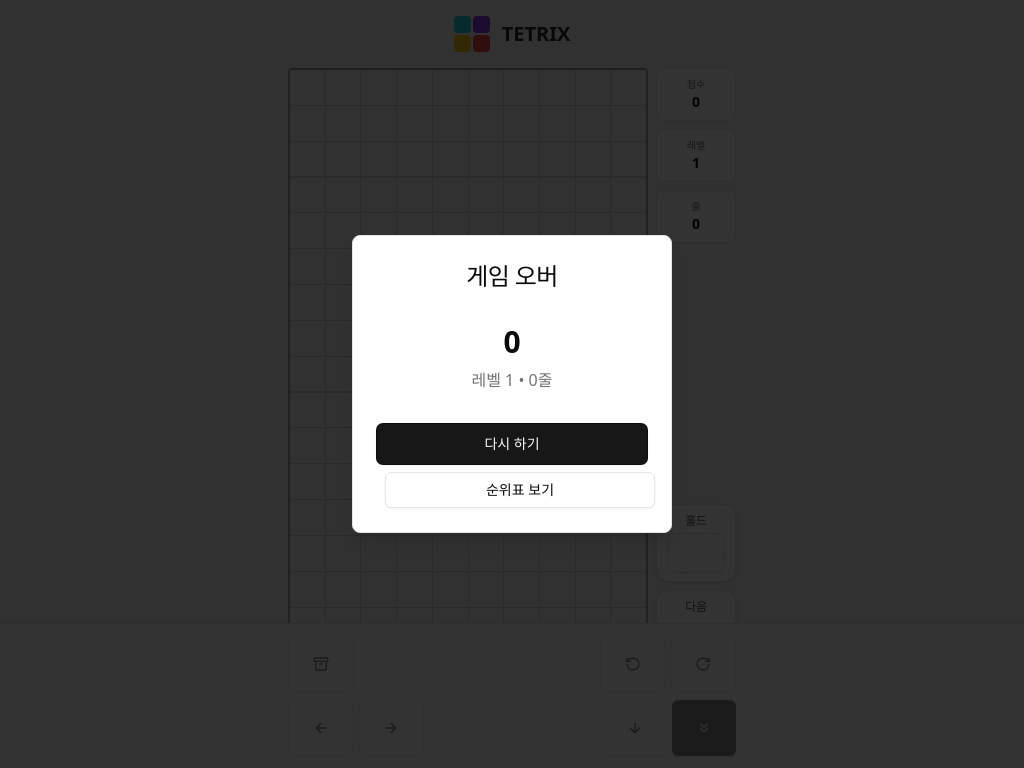
Scenario: score persistence result › restores the game-over restart route after viewing and closing leaderboard
The width and height of the screenshot is (1024, 768).
Click the button "순위표 보기": click(520, 490) [385,472,655,508]
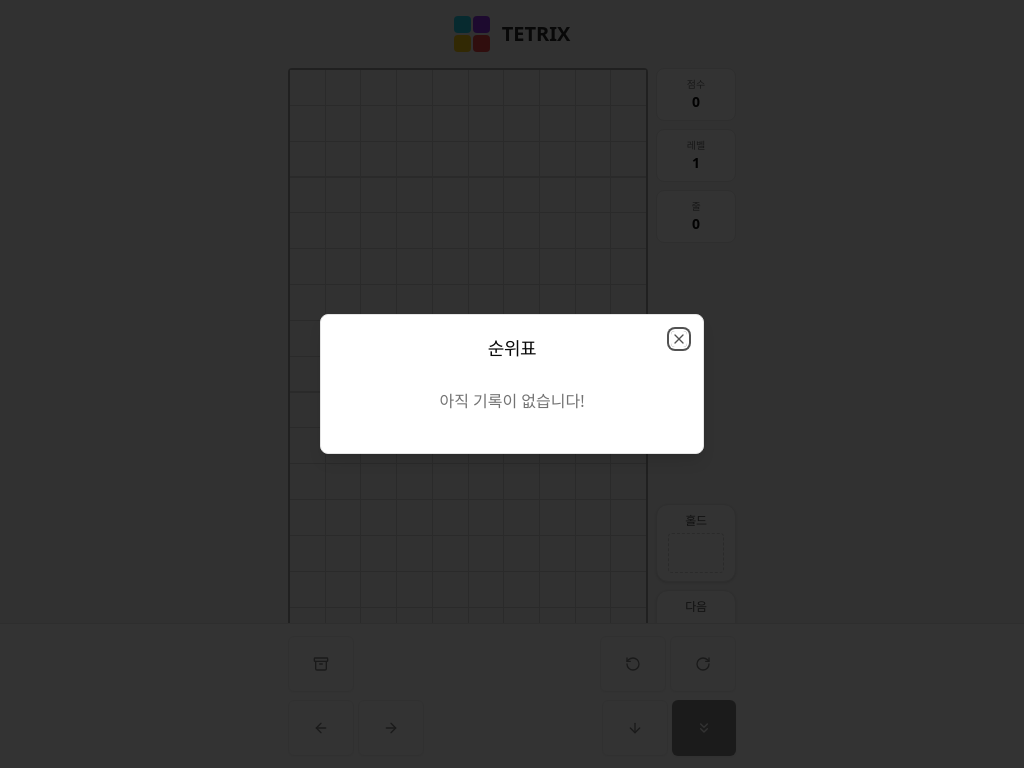
Check: the button "다시 하기" is gone
Click the button named "닫기": click(679, 339) [671,331,687,347]
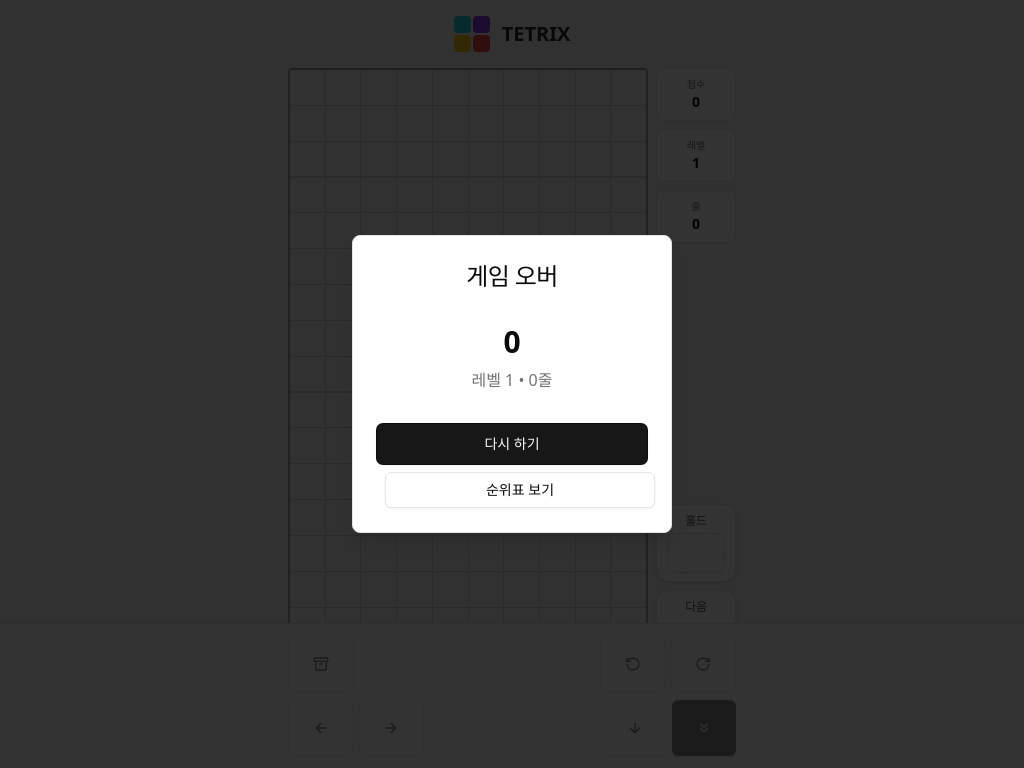
Check: the button "다시 하기" is shown, box [377,424,647,464]
